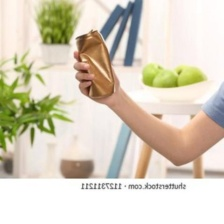can: (72, 28, 116, 102)
